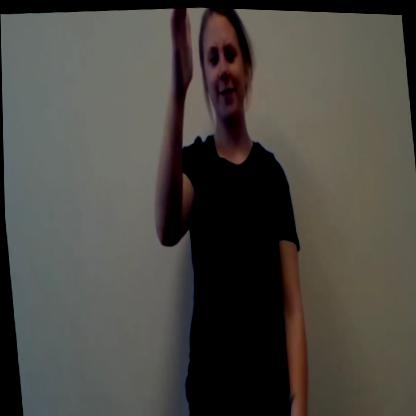Hello: (145, 4, 276, 178)
